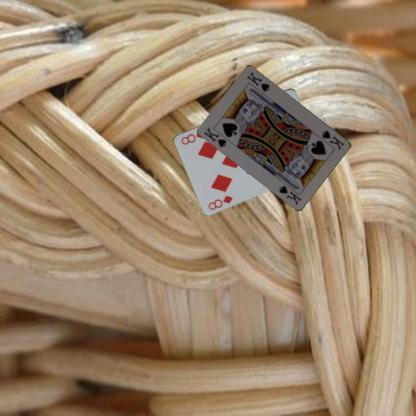8d: (206, 192, 235, 210)
Ks: (202, 124, 229, 148), (320, 128, 346, 151)
